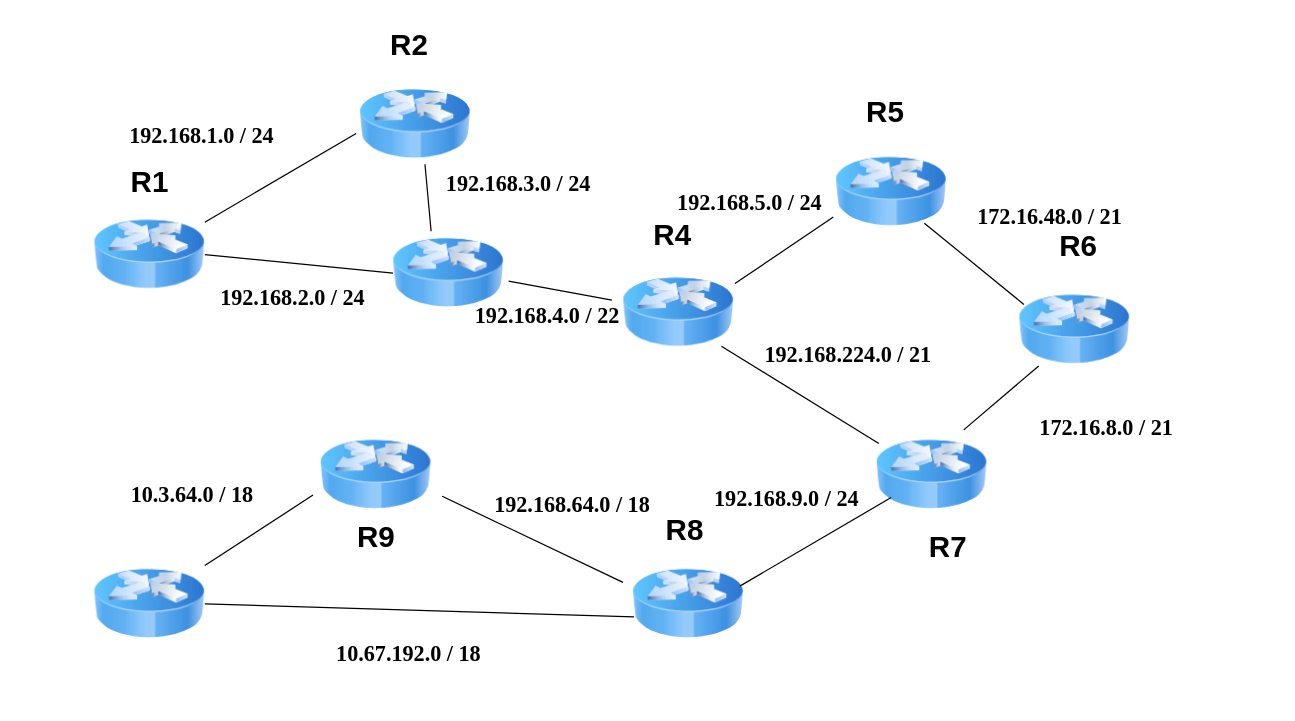
Some shapes in this 1295 by 721 pixel diagram are drawn without their labels. The centre of each missing label's shape, as x and y in pixels:
R10: the point at 148,603
R3: the point at 447,272
